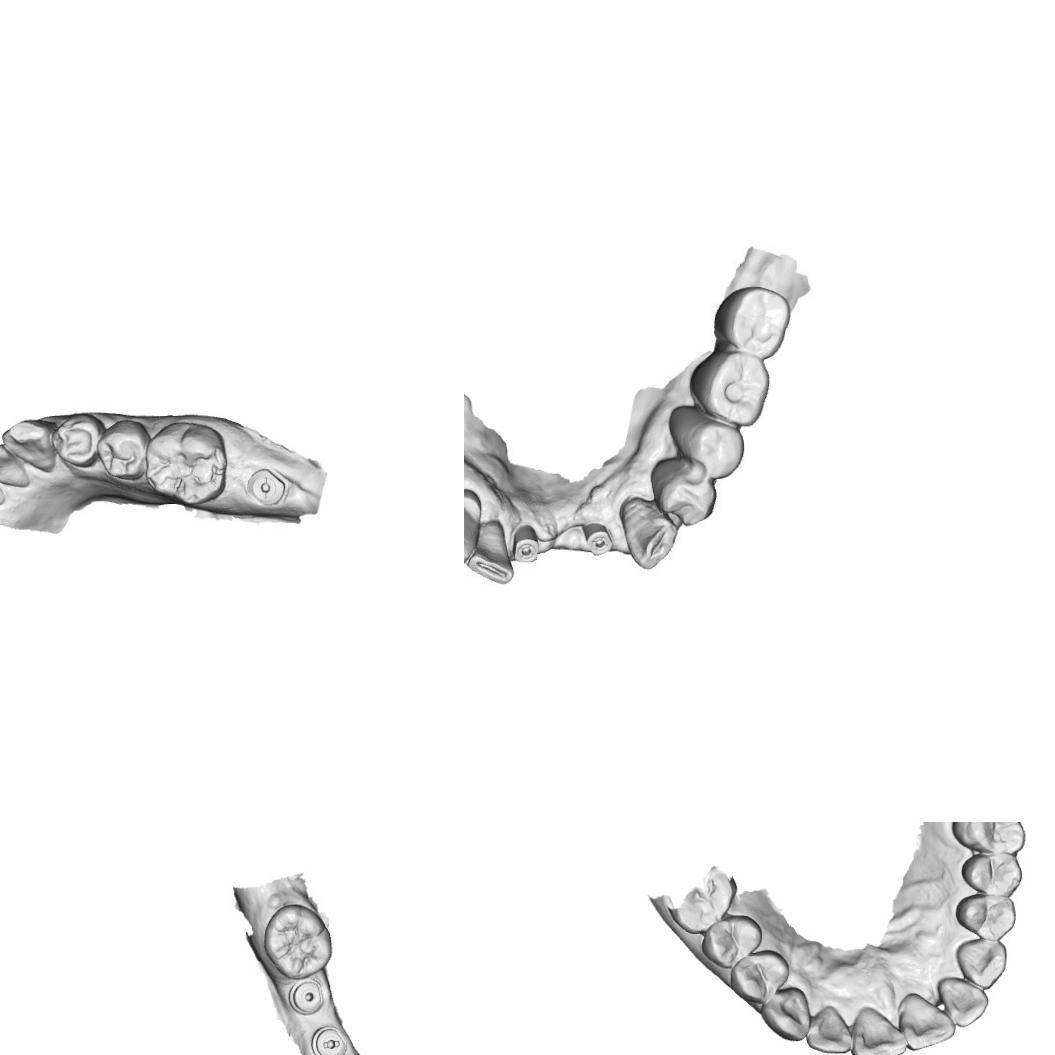canine: (616, 489, 681, 573), (0, 415, 57, 473), (464, 522, 513, 587), (954, 937, 1011, 991), (760, 986, 812, 1044)
implant: (289, 978, 325, 1016)
implant_minus: (243, 466, 290, 508), (311, 1024, 350, 1055)
implant_plus: (514, 518, 545, 564), (582, 518, 616, 558)
incisor: (898, 990, 958, 1052), (936, 975, 992, 1029), (850, 1003, 906, 1055), (806, 1002, 857, 1055), (0, 444, 26, 490)
molar: (146, 423, 226, 507), (690, 350, 770, 426), (709, 284, 793, 356), (260, 902, 332, 980), (949, 822, 1025, 852)
premolar: (650, 455, 717, 530), (680, 415, 748, 483), (728, 948, 792, 1008), (698, 914, 764, 972), (953, 892, 1018, 943), (958, 850, 1023, 898), (98, 419, 148, 481), (52, 412, 102, 466), (464, 489, 481, 565)
